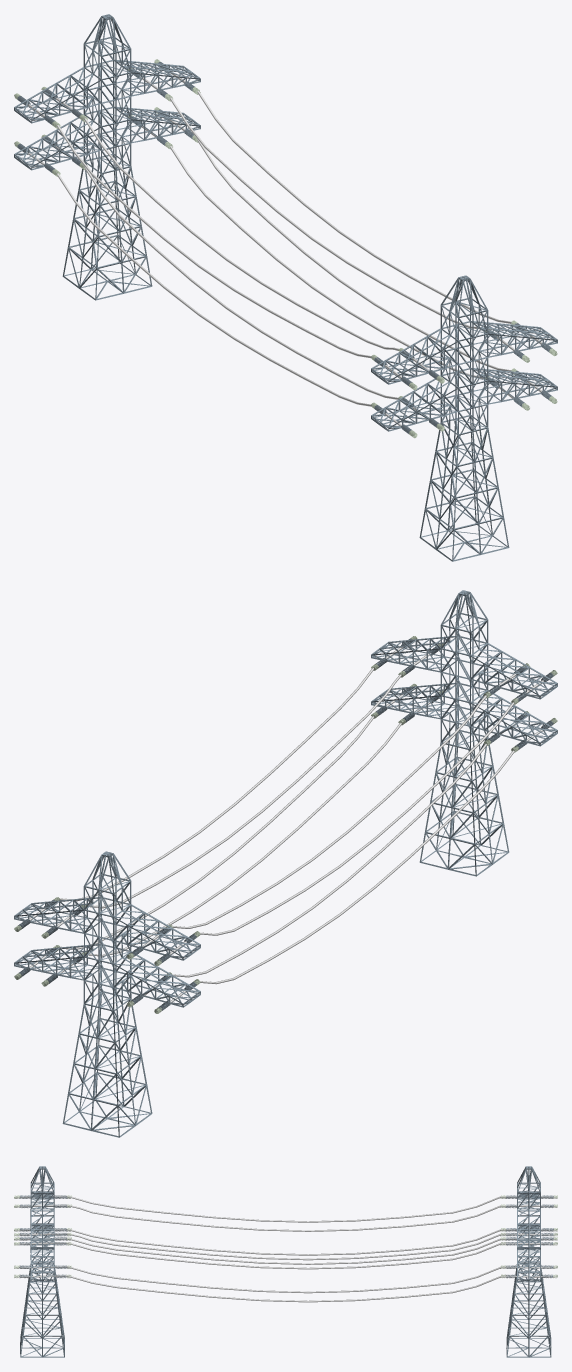
The model's file is Pylons.fbx.
The picture shows the model from 3 angles, top to bottom: view 1: azimuth 30°, elevation 25°; view 2: azimuth 150°, elevation 25°; view 3: azimuth 270°, elevation 25°; orthographic projection. The views are drawn at different scales.
Parts seen in each view (by area): view 1: Electrical Coil.003, Electrical Coil.002, Cable; view 2: Electrical Coil.002, Electrical Coil.003, Cable; view 3: Cable, Electrical Coil.003, Electrical Coil.002.
Part boxes in pixels (x1,y1,x2,y2): Electrical Coil.003: (371, 275, 557, 561); Electrical Coil.002: (14, 14, 200, 300); Cable: (27, 69, 542, 426); Electrical Coil.002: (14, 851, 200, 1137); Electrical Coil.003: (371, 590, 557, 876); Cable: (29, 647, 544, 1002); Cable: (19, 1195, 549, 1302); Electrical Coil.003: (14, 1166, 71, 1357); Electrical Coil.002: (500, 1166, 557, 1357).
Size of the model in its own units: 606 by 2467 by 905.
